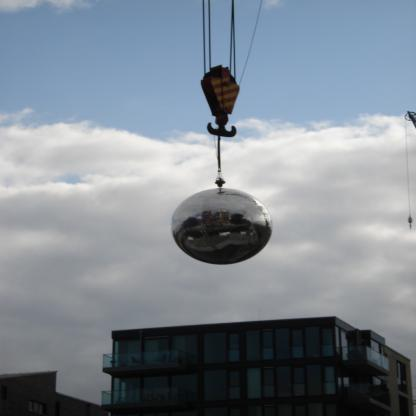Ball: (171, 188, 271, 264)
